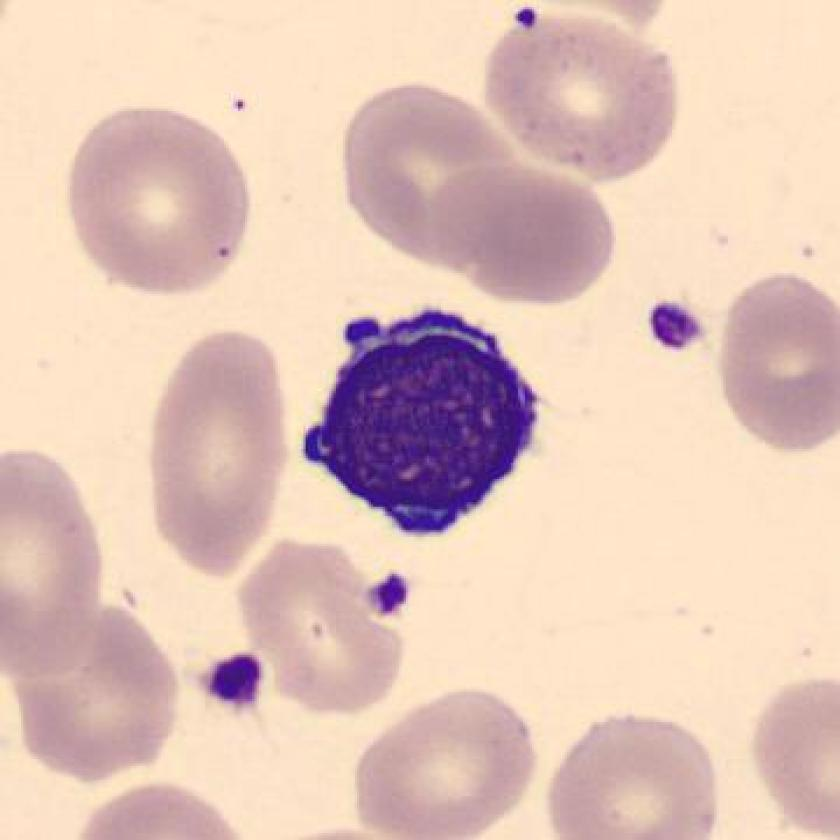lymphocyte: (290, 293, 554, 550)
